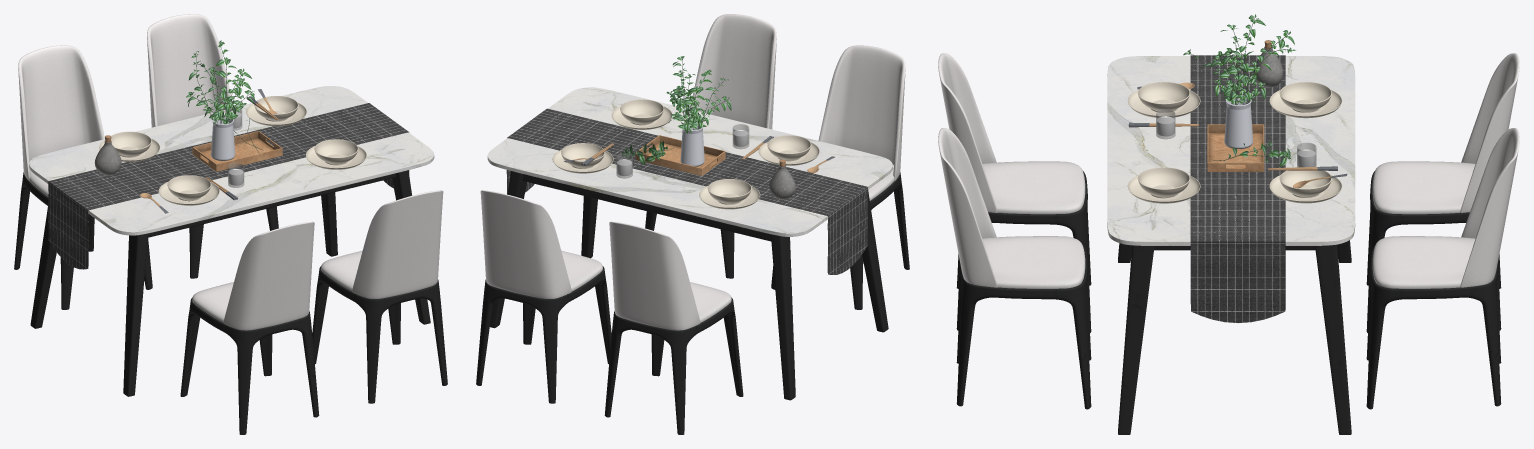
The model's file is DiningTableSet.glb.
3 renders of one model, left to right at view 1: azimuth 30°, elevation 25°; view 2: azimuth 150°, elevation 25°; view 3: azimuth 270°, elevation 25°, orthographic. The views are drawn at different scales.
Visible parts, largest first — view 1: zhuoyi_6, bu_8, qita_2, lvzhi_4; view 2: zhuoyi_6, bu_8, qita_2, lvzhi_4, Cylinder003_14; view 3: zhuoyi_6, bu_8, qita_2, lvzhi_4, Cylinder003_14.
Part boxes in pixels (x1,y1,x2,y2): zhuoyi_6: (14, 14, 447, 434); bu_8: (48, 103, 409, 269); qita_2: (94, 46, 366, 213); lvzhi_4: (186, 40, 254, 138); zhuoyi_6: (476, 14, 909, 434); bu_8: (506, 108, 867, 274); qita_2: (552, 59, 834, 209); lvzhi_4: (621, 56, 731, 164); Cylinder003_14: (732, 124, 749, 149); zhuoyi_6: (938, 53, 1519, 434); bu_8: (1190, 55, 1285, 323); qita_2: (1127, 18, 1347, 203); lvzhi_4: (1183, 14, 1295, 166); Cylinder003_14: (1156, 109, 1175, 139).
Size of the model in its own units: 3.63 by 3 by 4.77.
6 materials, 6 textured.
